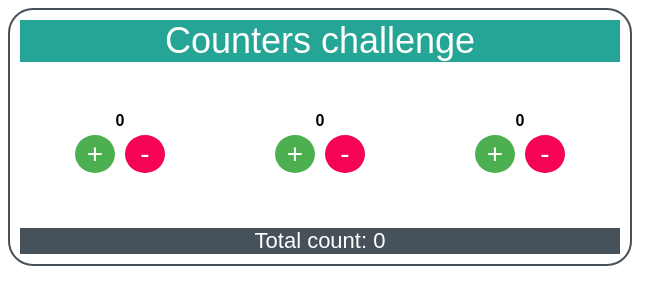
Test: Counter 3 should show initial value when pressing - and +
The image size is (649, 283).
Click the button with test id "decrement-btn-3": (545,154) [525,135,565,173]
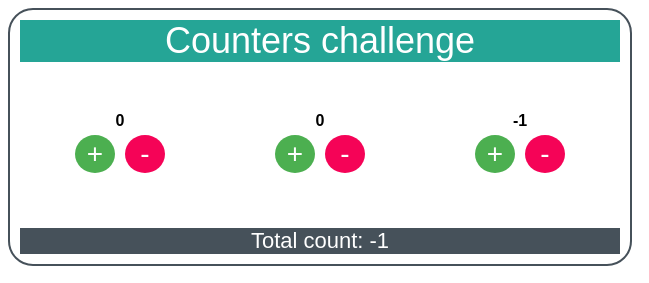
Click the button with test id "increment-btn-3": (495,154) [475,135,515,173]
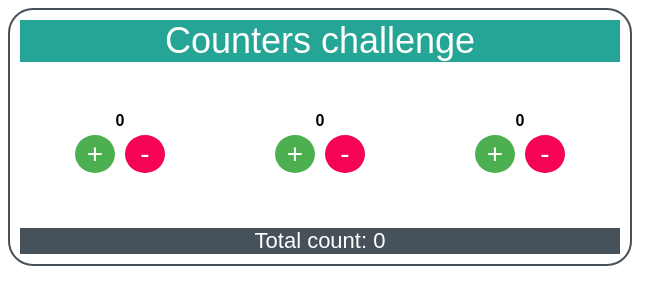
Now the text with test id "counter-3" reads "0", box [516,112,524,129]
